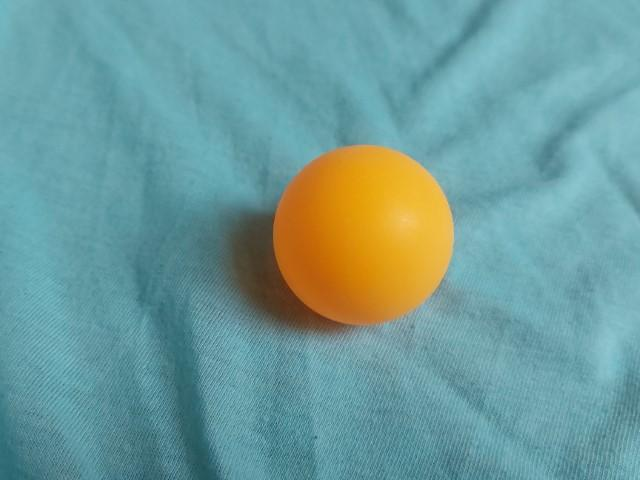oball: (262, 136, 463, 336)
